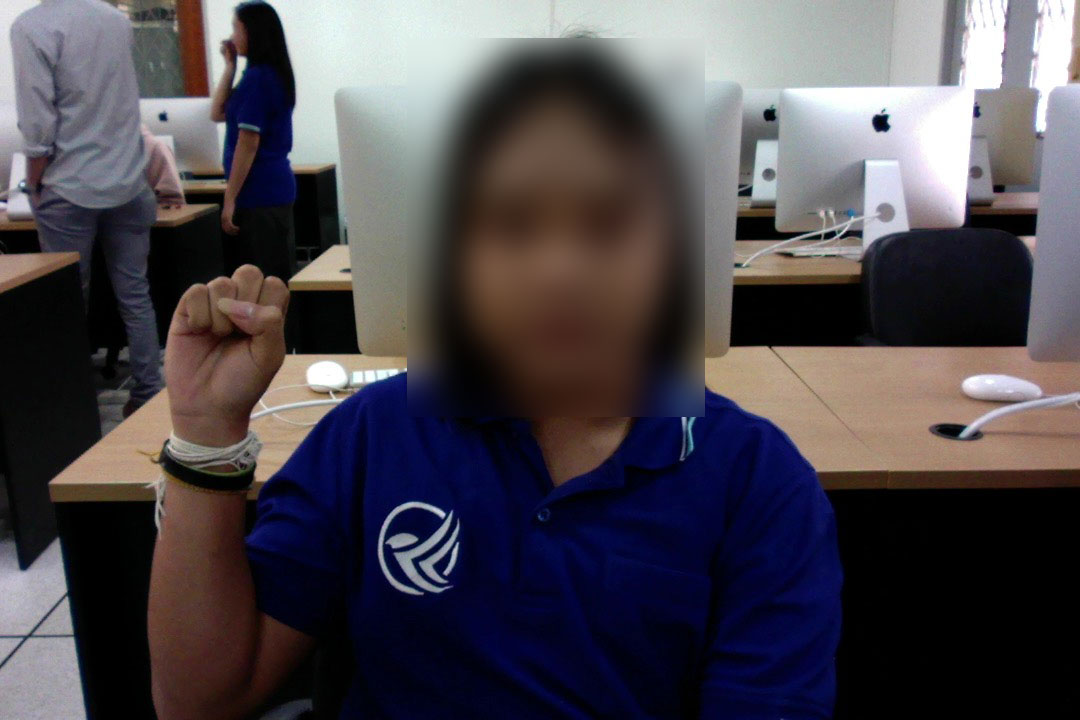sor: (155, 255, 294, 434)
